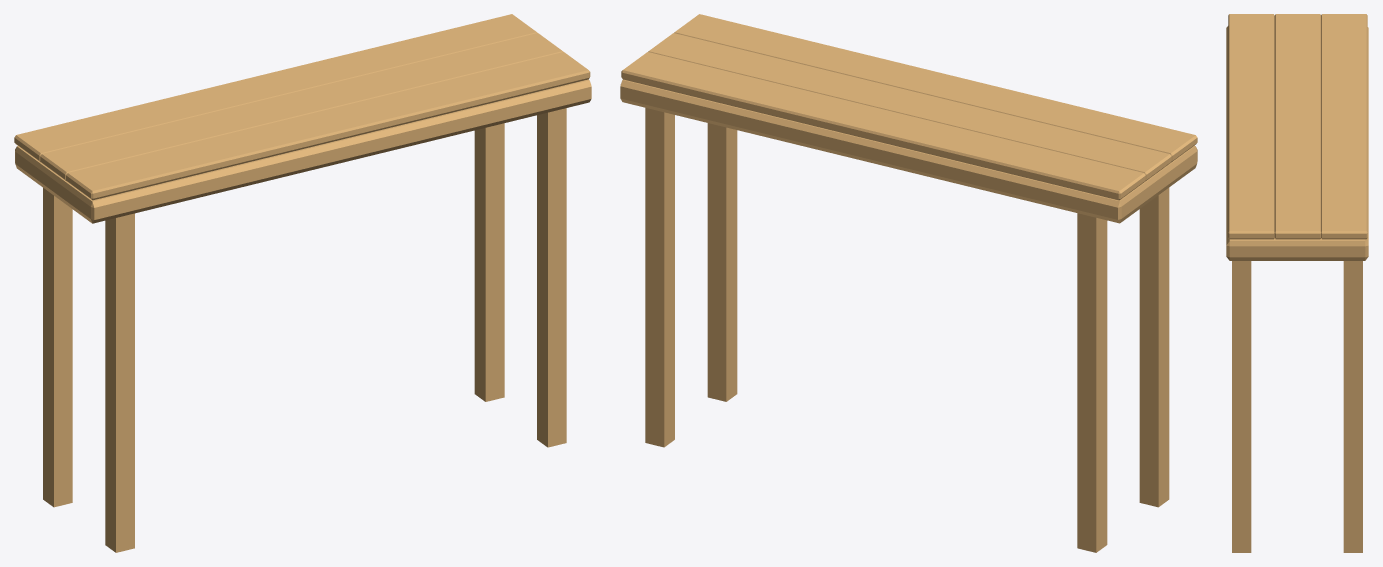
Rendered from bench2.glb.
The picture shows the model from 3 angles, left to right: view 1: azimuth 30°, elevation 25°; view 2: azimuth 150°, elevation 25°; view 3: azimuth 270°, elevation 25°; orthographic projection. The views are drawn at different scales.
Visible parts, largest first — view 1: Cube.014, Cube.012, Cube.015, Cube.013, Cube.009, Cube.010, Cube.011, Cube.008; view 2: Cube.013, Cube.012, Cube.014, Cube.015, Cube.011, Cube.008, Cube.010, Cube.009; view 3: Cube.015, Cube.013, Cube.014, Cube.008, Cube.009, Cube.012.
Boxes of the visible parts, <box> form: Cube.014: <box>66,52,590,200</box>; Cube.012: <box>15,79,591,223</box>; Cube.015: <box>40,33,563,180</box>; Cube.013: <box>14,14,537,162</box>; Cube.009: <box>537,108,566,447</box>; Cube.010: <box>105,213,134,552</box>; Cube.011: <box>43,188,72,507</box>; Cube.008: <box>474,123,504,401</box>; Cube.013: <box>621,52,1145,200</box>; Cube.012: <box>620,79,1197,223</box>; Cube.014: <box>674,14,1197,162</box>; Cube.015: <box>648,33,1171,181</box>; Cube.011: <box>1077,213,1107,552</box>; Cube.008: <box>645,108,674,447</box>; Cube.010: <box>1139,188,1169,507</box>; Cube.009: <box>707,123,737,401</box>; Cube.015: <box>1274,14,1321,239</box>; Cube.013: <box>1321,14,1367,239</box>; Cube.014: <box>1228,14,1274,239</box>; Cube.008: <box>1343,261,1362,552</box>; Cube.009: <box>1232,261,1251,552</box>; Cube.012: <box>1226,26,1368,260</box>.
Size of the model in its own units: 1.43 by 1.01 by 0.3929.
